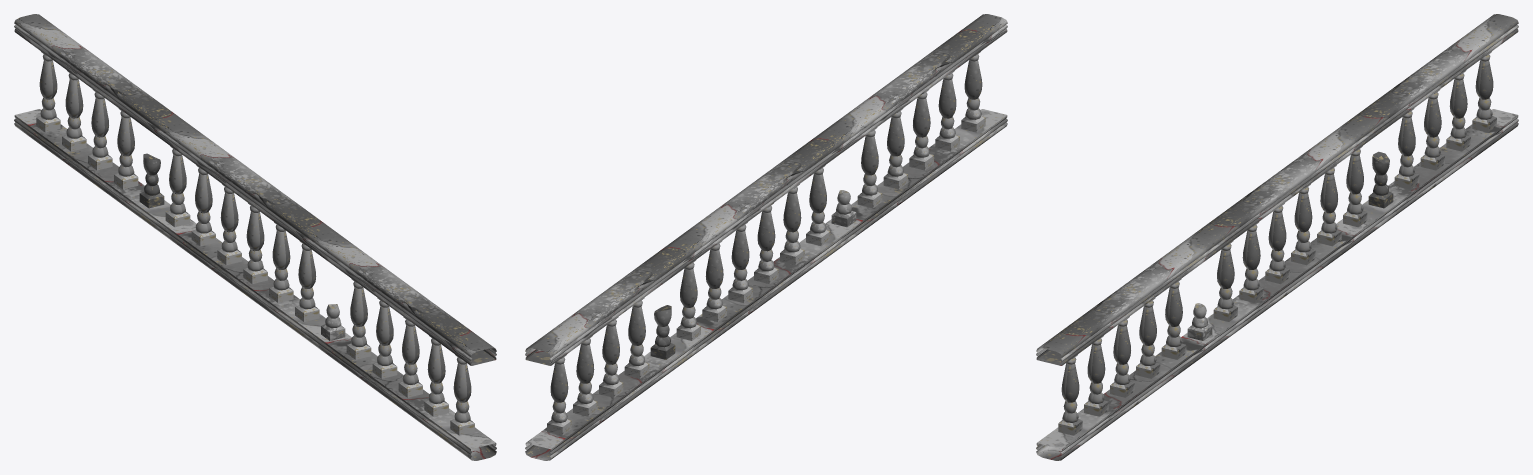
Rendered from Railing_12.fbx.
3 views of the same model, side by side, from view 1: azimuth 30°, elevation 25°; view 2: azimuth 150°, elevation 25°; view 3: azimuth 330°, elevation 25° (orthographic).
Parts seen in each view (by area): view 1: Railing_12; view 2: Railing_12; view 3: Railing_12.
Boxes of the visible parts, box(x1,y1,x2,y2) form: Railing_12: box(14, 14, 496, 460); Railing_12: box(525, 14, 1007, 460); Railing_12: box(1036, 14, 1518, 460).
Bounding box in the file's own units: 21.8 × 86.75 × 656.
